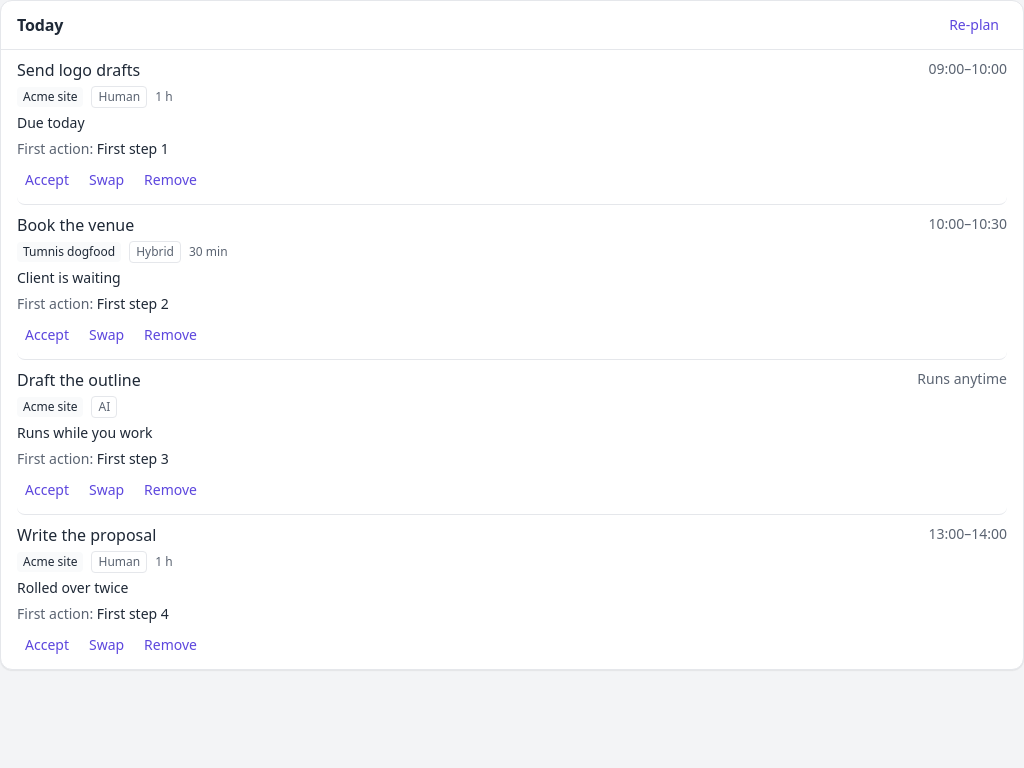
it: [P1-11][J1] the swap picker stays open until the swap is saved
Expected: the text "Send logo drafts" is shown, [17,58,140,82]
Step 1. Click the button "Swap" below "Draft the outline" → (107, 490), box [81,474,132,506]
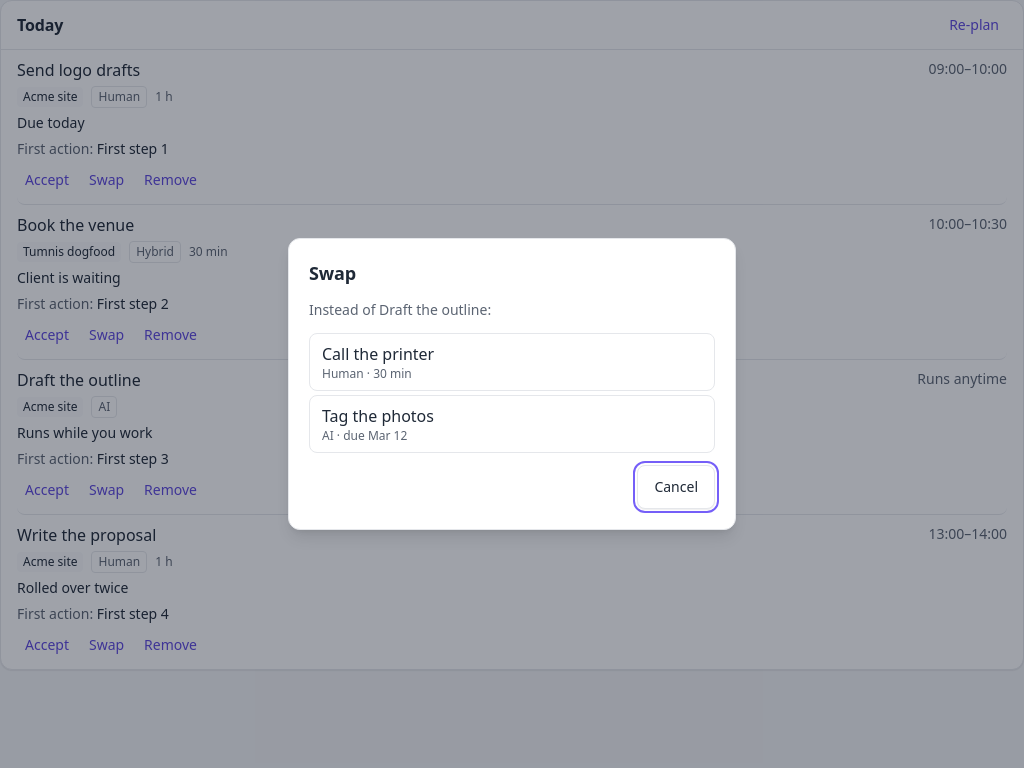
Step 2. Click the option "Call the printer Human · 30 min" → (378, 354), box [309,333,715,391]
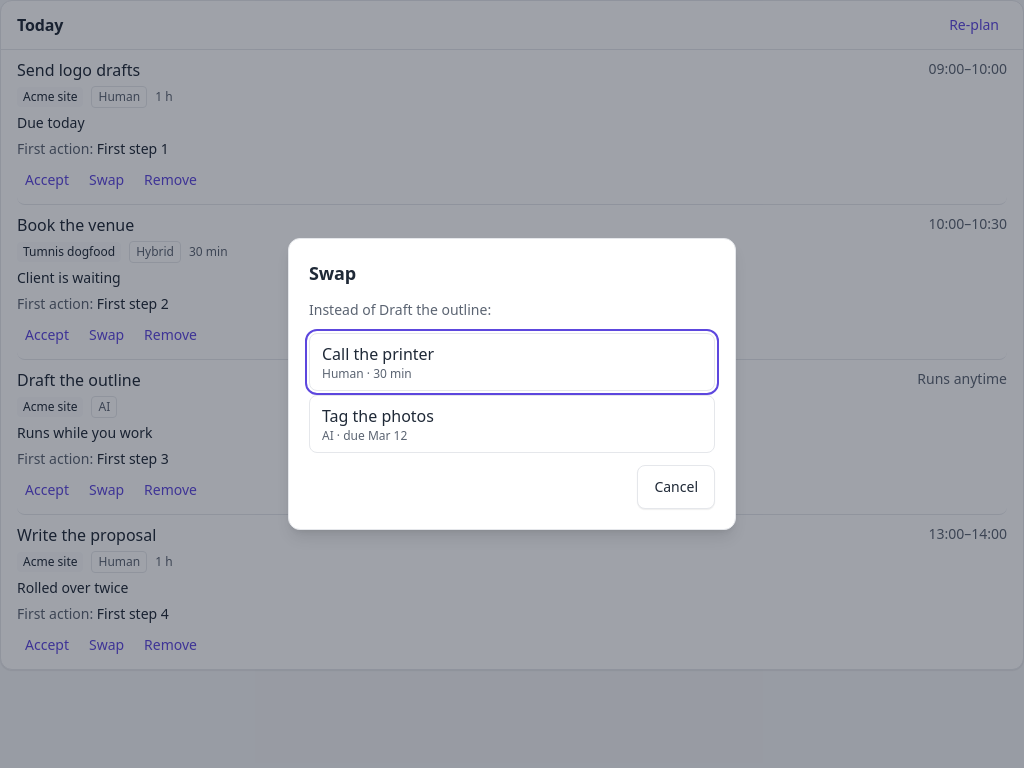
Step 3. Click the option "Tag the photos AI · due Mar 12" → (378, 416), box [309,395,715,453]
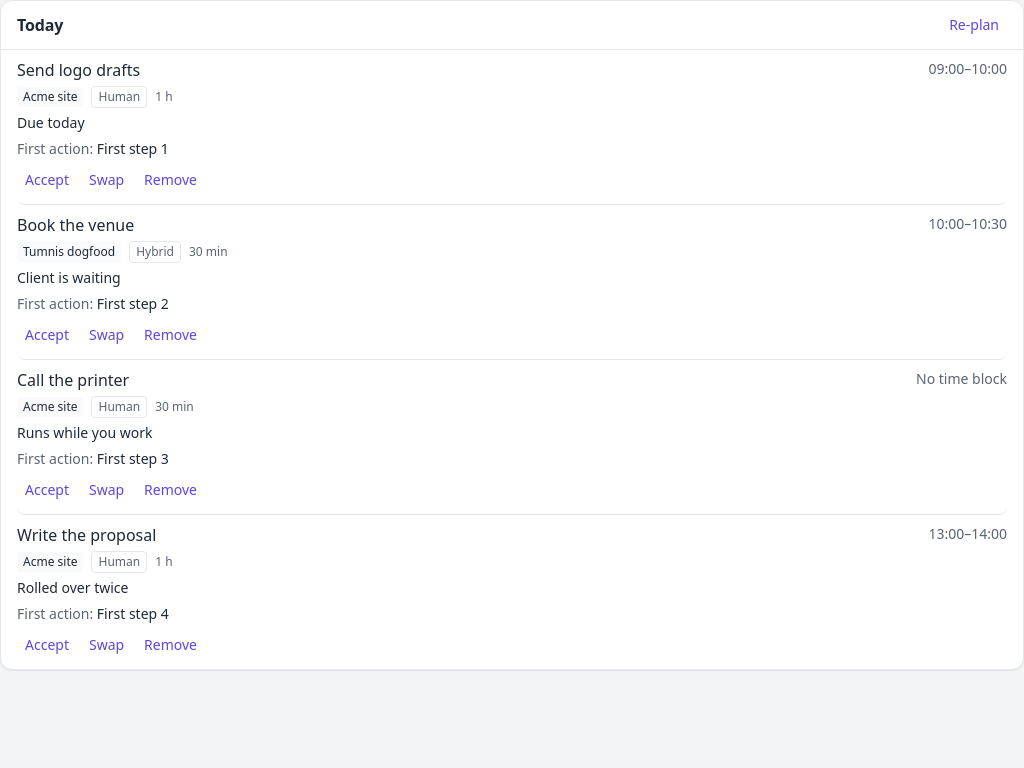
Expected: the list item with aria-label "Call the printer" shows "Call the printer", [17,369,129,391]
